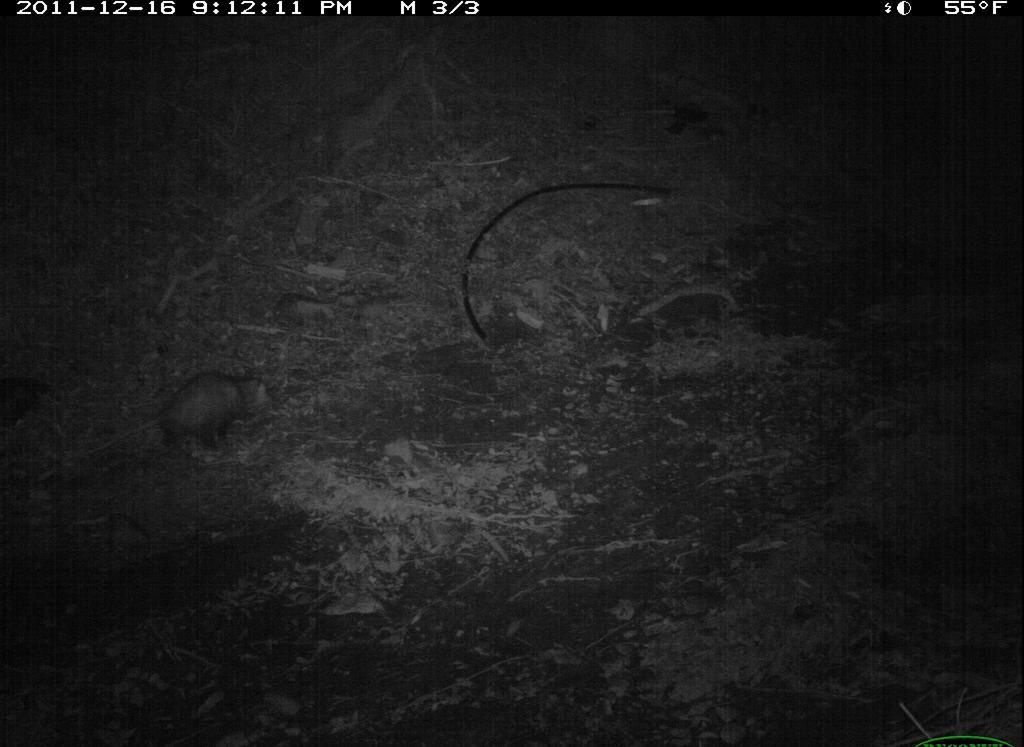opossum: (122, 355, 286, 470)
